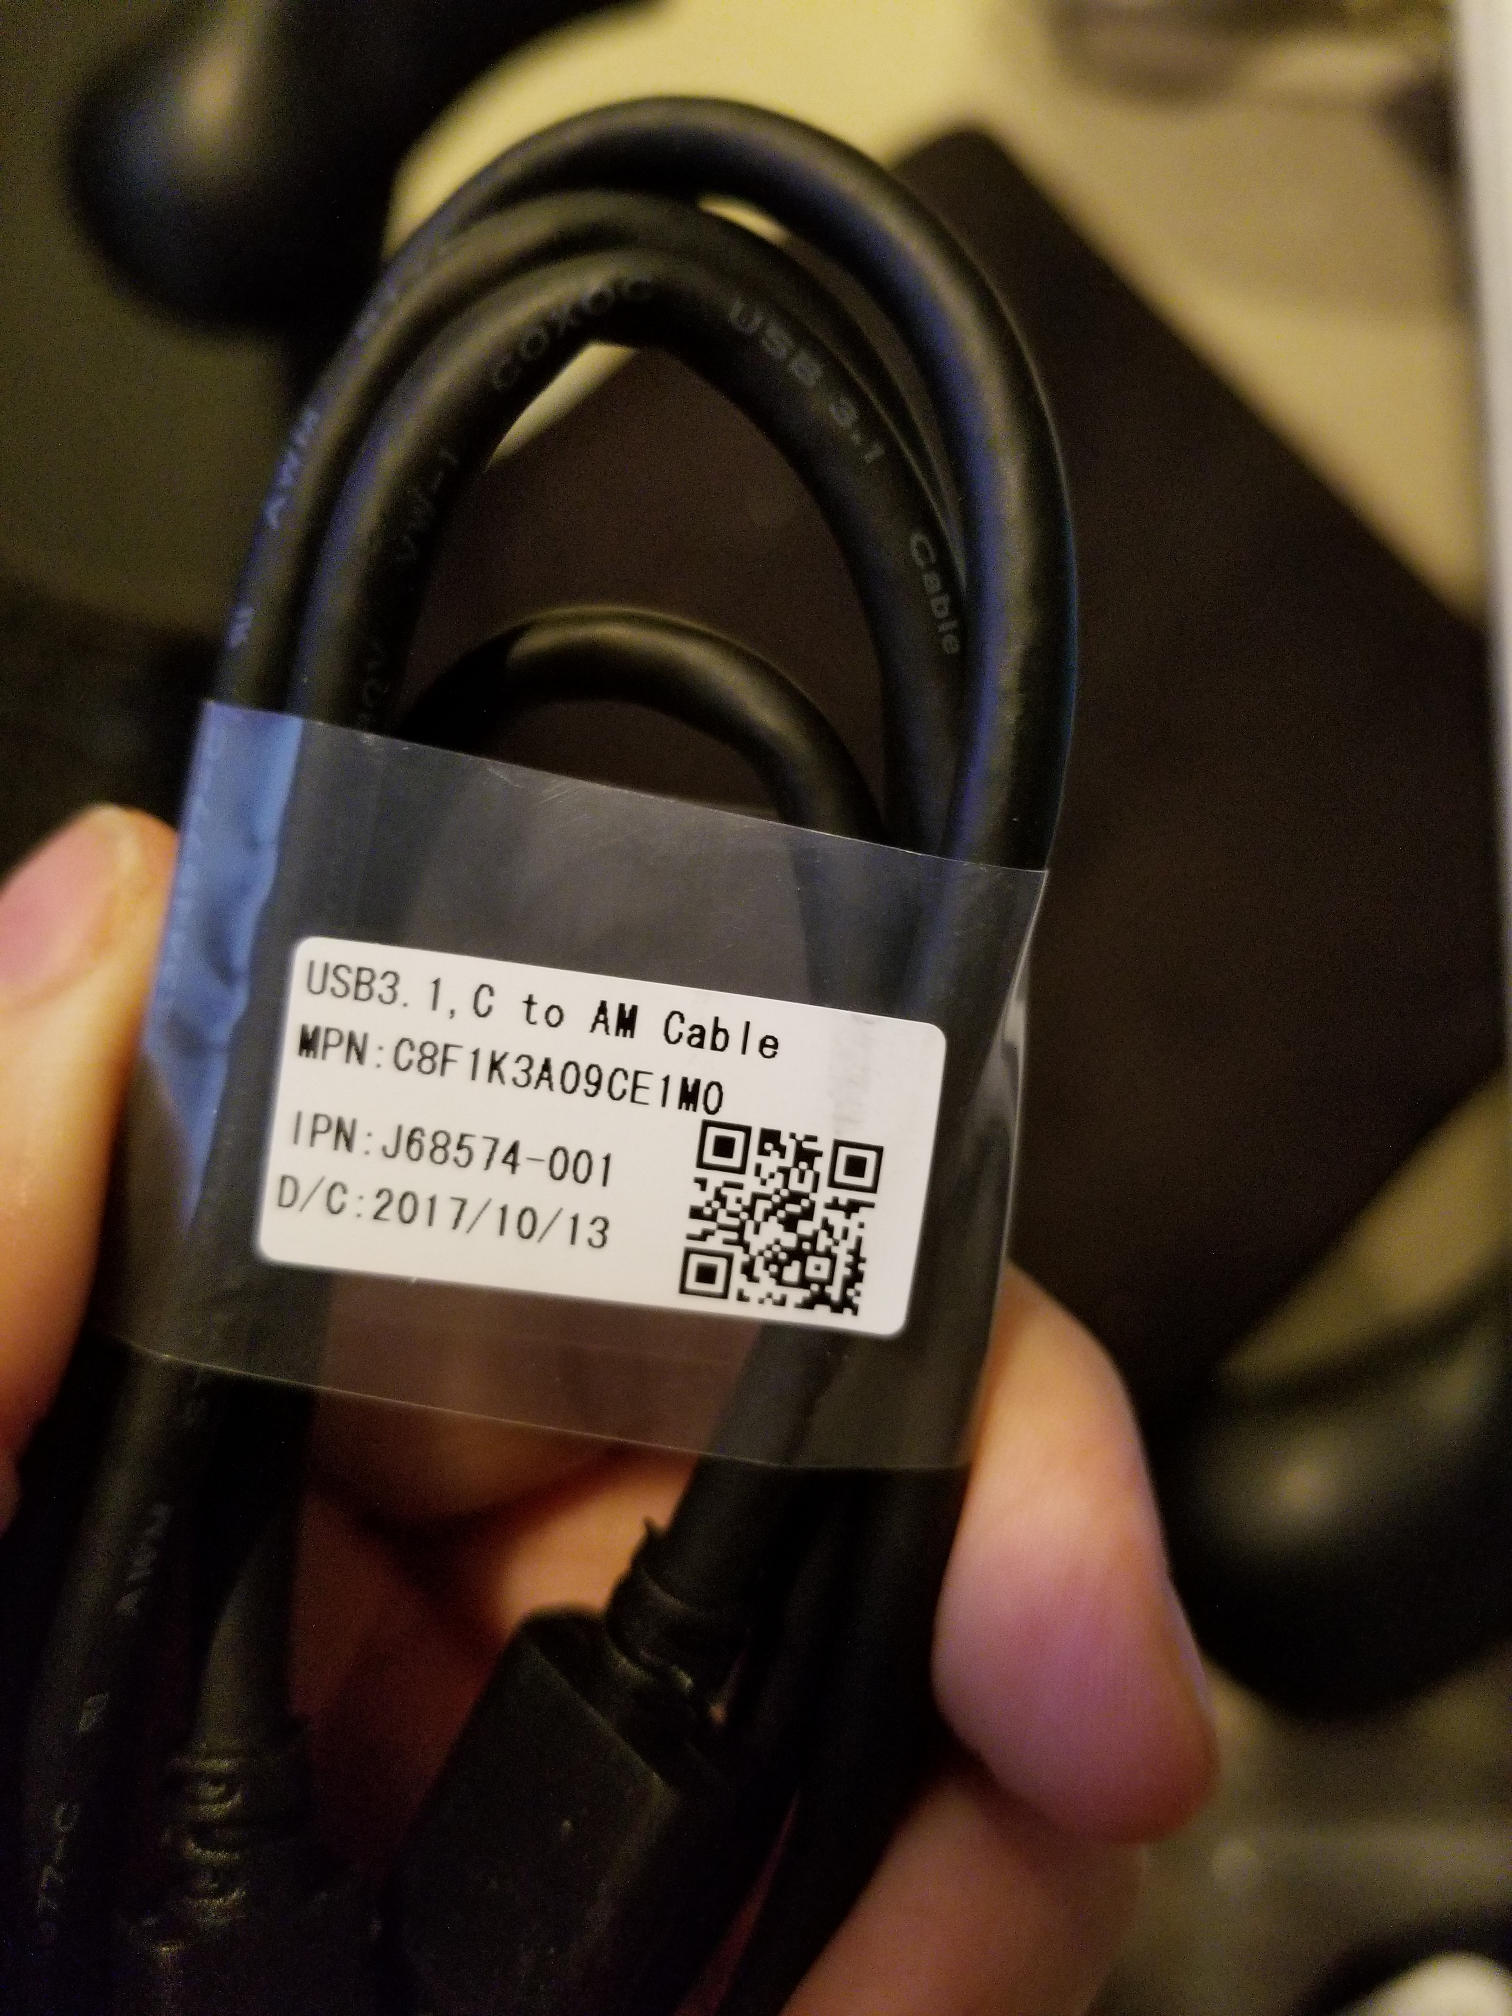QR_CODE: (662, 1089, 905, 1343)
